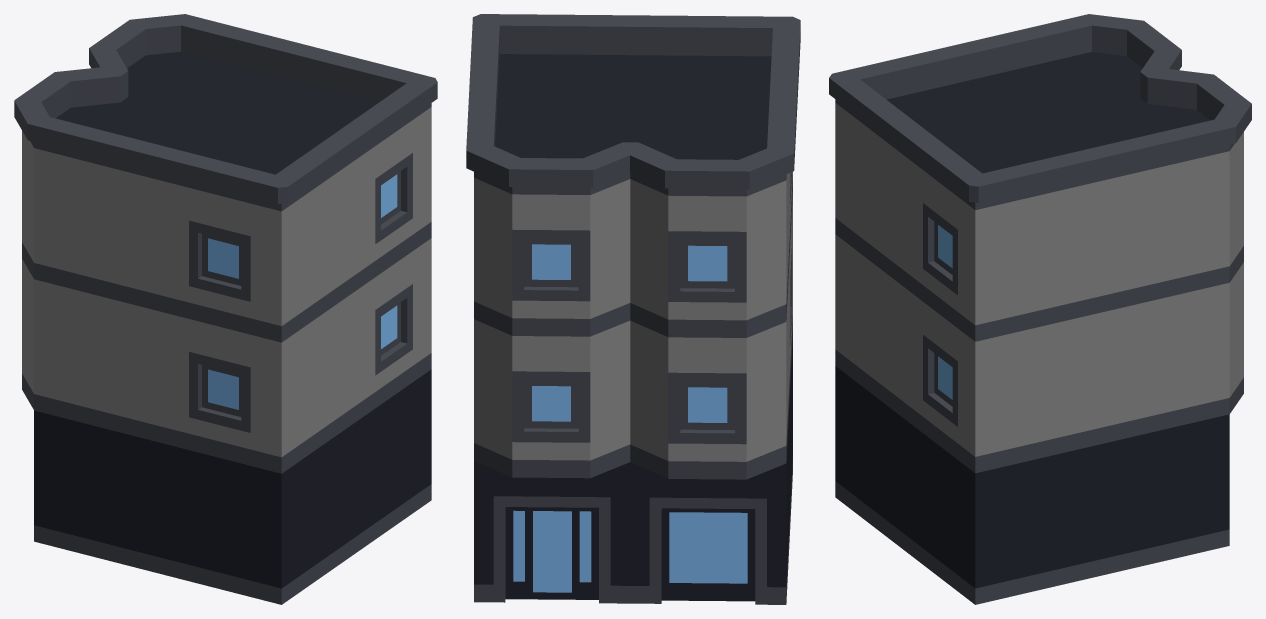
Rendered from variant_4.obj.
3 views of the same model, side by side, from view 1: azimuth 30°, elevation 25°; view 2: azimuth 150°, elevation 25°; view 3: azimuth 270°, elevation 25° (orthographic). The views are drawn at different scales.
Visible parts, largest first — view 1: Building; view 2: Building; view 3: Building.
Part boxes in pixels (x1,y1,x2,y2): Building: (14,14,437,604); Building: (466,14,800,604); Building: (829,14,1251,604).
Size of the model in its own units: 1.13 by 1.28 by 1.16.
